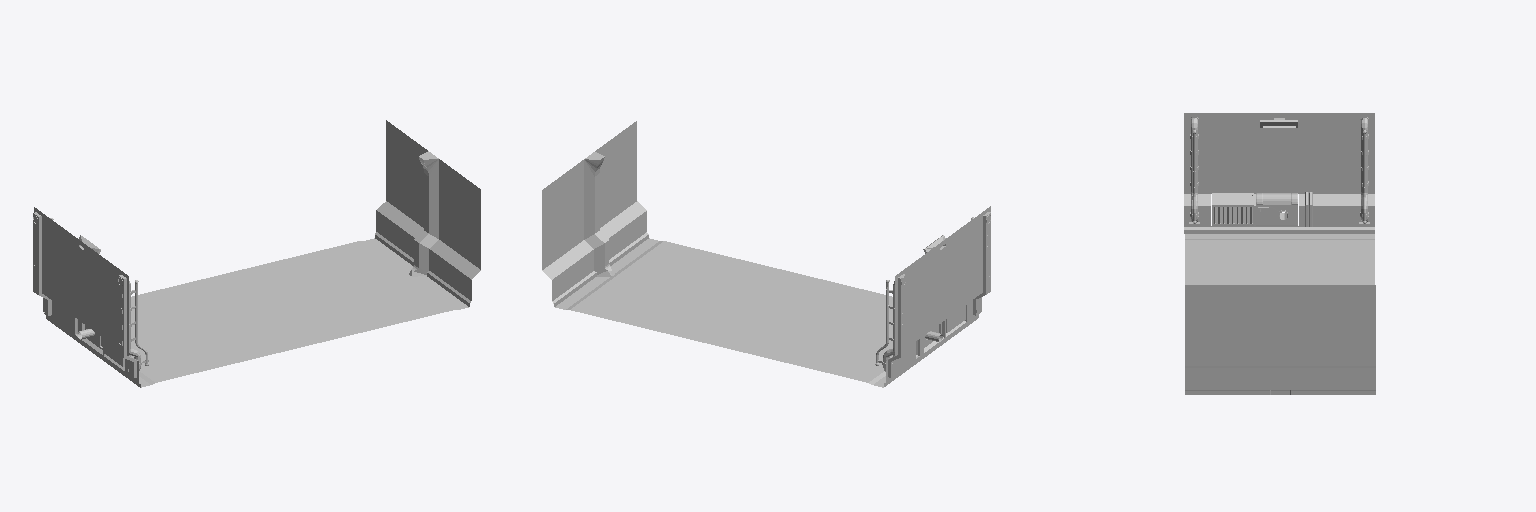
3 views of the same model, side by side, from view 1: azimuth 30°, elevation 25°; view 2: azimuth 150°, elevation 25°; view 3: azimuth 270°, elevation 25° (orthographic).
Parts seen in each view (by area): view 1: Segment_7 Components Full_Templates Templates; view 2: Segment_7 Components Full_Templates Templates; view 3: Segment_7 Components Full_Templates Templates.
Part boxes in pixels (bbox=[...]): Segment_7 Components Full_Templates Templates: bbox=[33, 120, 480, 387]; Segment_7 Components Full_Templates Templates: bbox=[542, 121, 990, 387]; Segment_7 Components Full_Templates Templates: bbox=[1184, 113, 1375, 394].
Size of the model in its own units: 38.94 by 12 by 18.1.